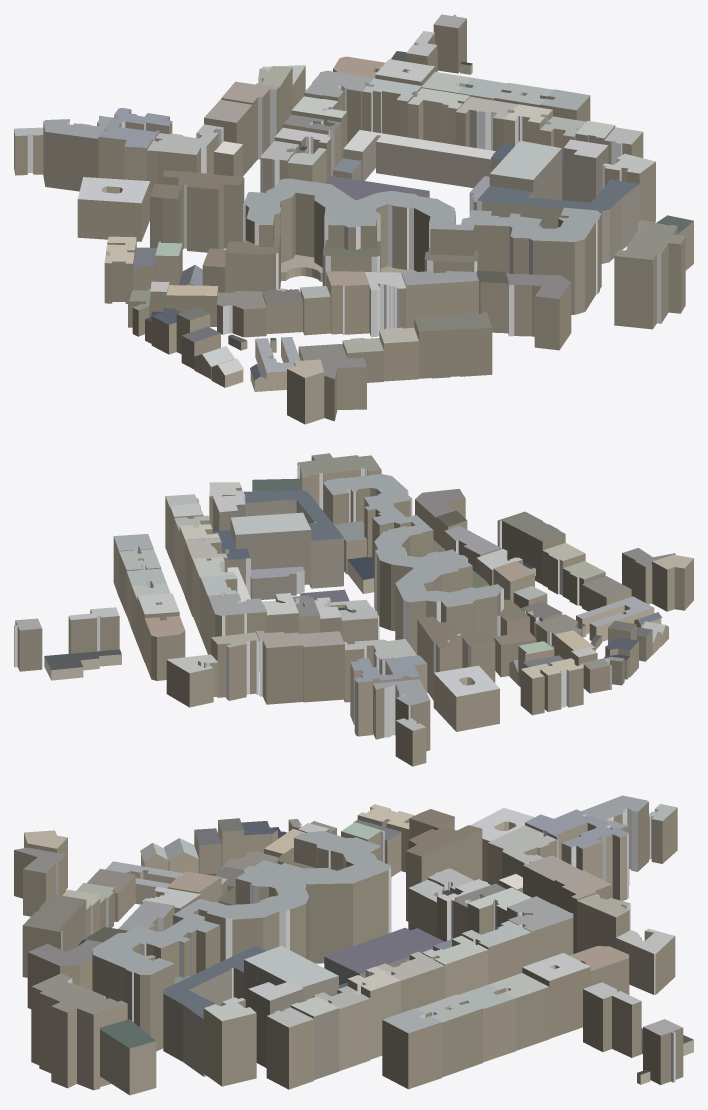
The picture shows the model from 3 angles, top to bottom: view 1: azimuth 30°, elevation 25°; view 2: azimuth 150°, elevation 25°; view 3: azimuth 270°, elevation 25°; orthographic projection. The views are drawn at different scales.
Parts seen in each view (by area): view 1: tuile; view 2: tuile; view 3: tuile.
Part boxes in pixels (x1,y1,x2,y2): tuile: [14, 14, 693, 424]; tuile: [14, 453, 693, 766]; tuile: [14, 795, 693, 1095].
Size of the model in its own units: 256 by 49.25 by 272.
